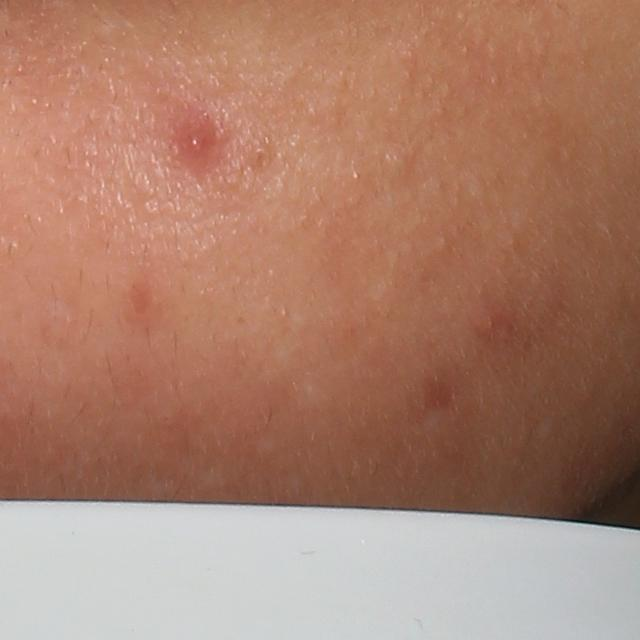comedo: (379, 139, 416, 175)
papule: (172, 122, 221, 173), (468, 302, 511, 345)
